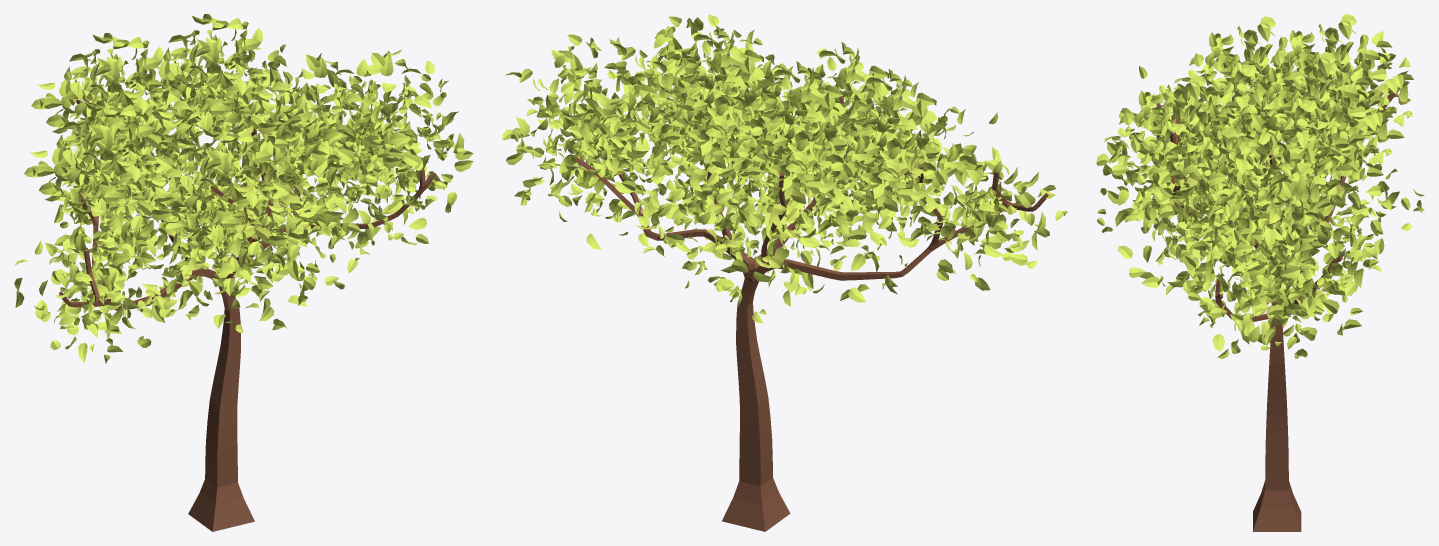
File: mod_BG_AppleTree_01_Merge.fbx
3 views of the same model, side by side, from view 1: azimuth 30°, elevation 25°; view 2: azimuth 150°, elevation 25°; view 3: azimuth 270°, elevation 25° (orthographic). The views are drawn at different scales.
Parts seen in each view (by area): view 1: Tree; view 2: Tree; view 3: Tree.
Part boxes in pixels (x1=…): Tree: x1=14, y1=14, x2=473, y2=531; Tree: x1=502, y1=14, x2=1067, y2=531; Tree: x1=1096, y1=14, x2=1424, y2=531.
Bounding box in the file's own units: 316 × 301 × 191.
